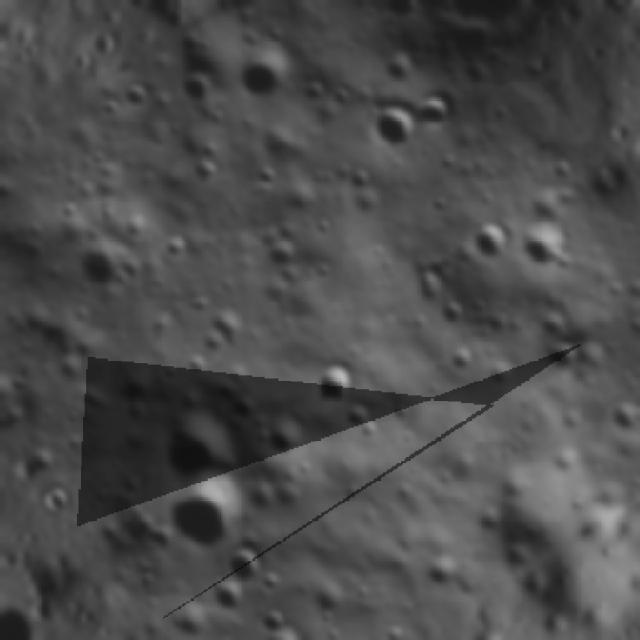crater: (140, 388, 254, 504), (153, 456, 267, 567), (61, 222, 147, 306), (220, 33, 302, 112), (506, 210, 580, 287), (358, 91, 431, 164), (248, 396, 318, 470), (299, 348, 367, 415), (402, 74, 470, 141), (193, 563, 258, 629), (245, 219, 310, 283), (531, 328, 592, 386), (461, 212, 519, 272), (330, 386, 388, 443), (166, 59, 222, 115), (367, 0, 439, 40), (561, 500, 617, 542), (600, 386, 640, 442), (112, 72, 158, 119), (248, 612, 318, 640), (46, 474, 85, 518), (106, 54, 149, 88), (0, 140, 20, 198)
